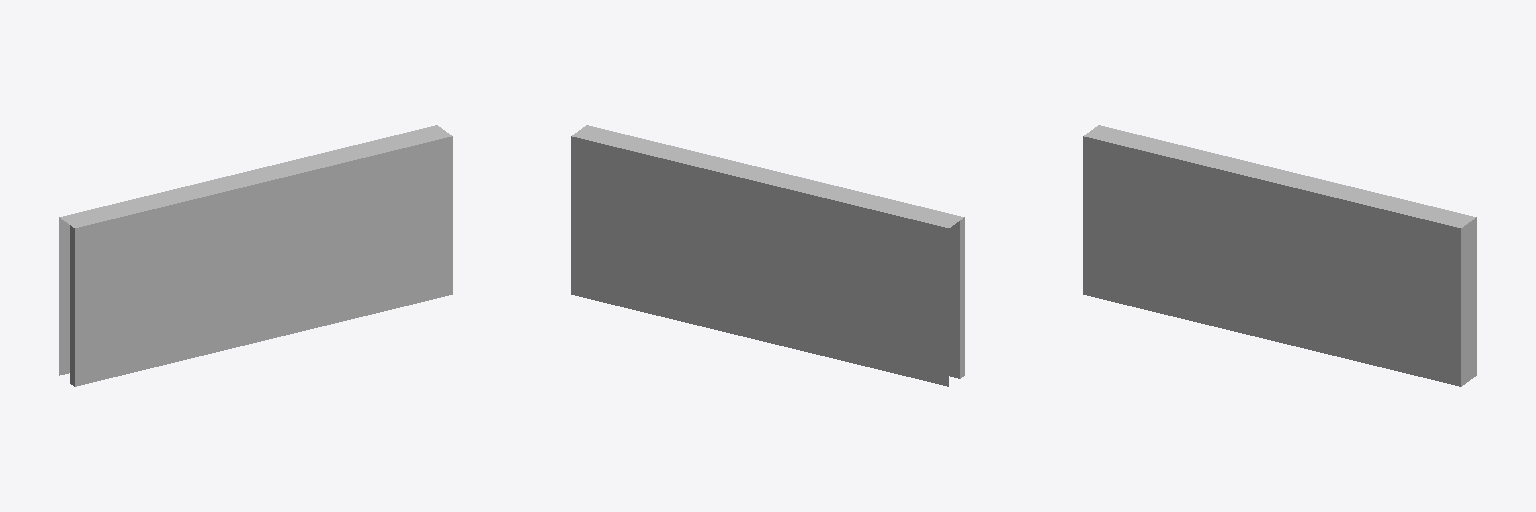
File: Walls2.obj
3 renders of one model, left to right at view 1: azimuth 30°, elevation 25°; view 2: azimuth 150°, elevation 25°; view 3: azimuth 330°, elevation 25°, orthographic.
Visible parts, largest first — view 1: Mesh1 Wall2_1 Model; view 2: Mesh1 Wall2_1 Model; view 3: Mesh1 Wall2_1 Model.
Part boxes in pixels (bbox=[...]): Mesh1 Wall2_1 Model: bbox=[59, 125, 452, 386]; Mesh1 Wall2_1 Model: bbox=[571, 125, 964, 386]; Mesh1 Wall2_1 Model: bbox=[1083, 125, 1476, 386].
Bounding box in the file's own units: 4.99 × 2 × 0.35.